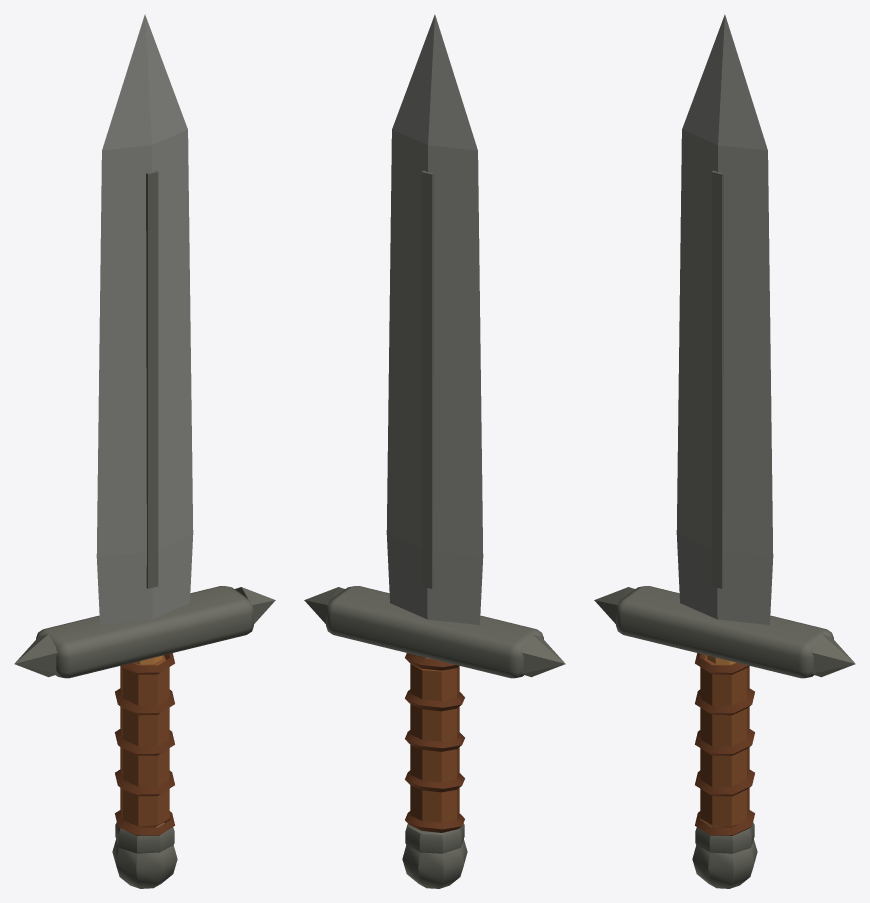
File: StoneSword.fbx
The picture shows the model from 3 angles, left to right: view 1: azimuth 30°, elevation 25°; view 2: azimuth 150°, elevation 25°; view 3: azimuth 330°, elevation 25°; orthographic projection.
Parts seen in each view (by area): view 1: StoneSword; view 2: StoneSword; view 3: StoneSword.
Boxes of the visible parts, <box> form: StoneSword: <box>14,14,275,888</box>; StoneSword: <box>304,14,565,888</box>; StoneSword: <box>594,14,855,888</box>.
Bounding box in the file's own units: 1.52 × 4.84 × 0.34.
Materials: 1 (1 with a texture image).
